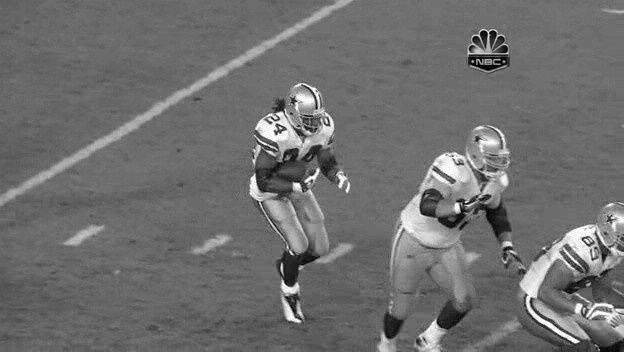person: (289, 84, 325, 133), (288, 84, 324, 133), (290, 84, 326, 133), (289, 83, 325, 132), (289, 85, 325, 134)
target_negative: (69, 31, 598, 162), (118, 162, 432, 329), (436, 28, 486, 133), (381, 175, 488, 220), (158, 84, 505, 94), (146, 302, 226, 313)
